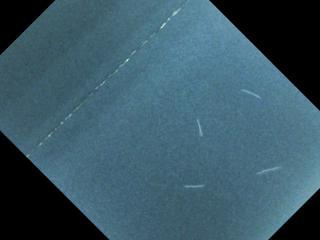crack: (26, 0, 189, 159)
scratch: (235, 83, 268, 105), (190, 115, 212, 141), (254, 161, 284, 178), (180, 178, 211, 194)
